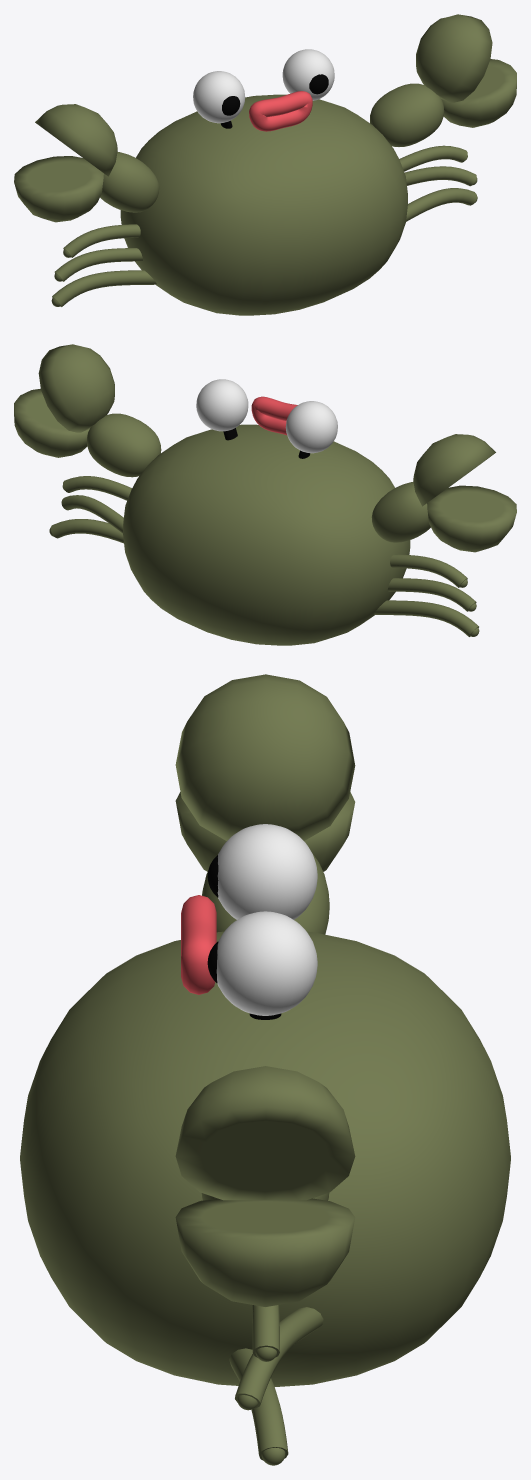
File: crab.glb
3 views of the same model, one above another, from view 1: azimuth 30°, elevation 25°; view 2: azimuth 150°, elevation 25°; view 3: azimuth 270°, elevation 25° (orthographic). The views are drawn at different scales.
Visible parts, largest first — view 1: Cube, Cube.005, Cube.002, Cube.004, Cube.003, Cube.006, Cube.001, Sphere, BézierCircle, Sphere.007, BézierCurve.002, BézierCurve.001 (+4 smaller); view 2: Cube, Cube.005, Cube.002, Cube.004, Cube.003, Cube.006, Cube.001, Sphere.007, Sphere, BézierCurve.002, BézierCurve.001, BézierCircle (+4 smaller); view 3: Cube, Cube.003, Cube.005, Cube.006, Sphere.007, Sphere, Cube.002, BézierCircle, BézierCurve.004, BézierCurve.003, Cube.001, BézierCurve.005.
Part boxes in pixels (left/top/right/bottom): Cube: left=120, top=94, right=407, bottom=315; Cube.005: left=416, top=14, right=492, bottom=102; Cube.002: left=14, top=156, right=103, bottom=222; Cube.004: left=370, top=83, right=444, bottom=146; Cube.003: left=35, top=104, right=117, bottom=176; Cube.006: left=441, top=59, right=516, bottom=127; Cube.001: left=100, top=152, right=159, bottom=212; Sphere: left=193, top=71, right=245, bottom=123; BézierCircle: left=249, top=91, right=312, bottom=131; Sphere.007: left=282, top=49, right=334, bottom=100; BézierCurve.002: left=52, top=270, right=156, bottom=306; BézierCurve.001: left=54, top=248, right=142, bottom=281; Cube: left=123, top=424, right=410, bottom=645; Cube.005: left=38, top=344, right=114, bottom=432; Cube.002: left=427, top=485, right=516, bottom=552; Cube.004: left=87, top=413, right=161, bottom=477; Cube.003: left=413, top=434, right=495, bottom=506; Cube.006: left=14, top=389, right=89, bottom=457; Cube.001: left=371, top=482, right=430, bottom=542; Sphere.007: left=196, top=379, right=248, bottom=431; Sphere: left=285, top=401, right=337, bottom=453; BézierCurve.002: left=374, top=600, right=478, bottom=636; BézierCurve.001: left=387, top=578, right=476, bottom=611; BézierCircle: left=251, top=396, right=297, bottom=435; Cube: left=20, top=931, right=510, bottom=1386; Cube.003: left=175, top=674, right=355, bottom=840; Cube.005: left=175, top=1066, right=355, bottom=1200; Cube.006: left=175, top=1198, right=355, bottom=1306; Sphere.007: left=216, top=911, right=317, bottom=1015; Sphere: left=217, top=824, right=317, bottom=919; Cube.002: left=175, top=792, right=355, bottom=871; BézierCircle: left=181, top=895, right=216, bottom=994; BézierCurve.004: left=235, top=1307, right=323, bottom=1408; BézierCurve.003: left=229, top=1348, right=288, bottom=1460; Cube.001: left=202, top=854, right=329, bottom=934; BézierCurve.005: left=252, top=1305, right=279, bottom=1357.
Bounding box in the file's own units: 2.59 × 1.2 × 1.12.
